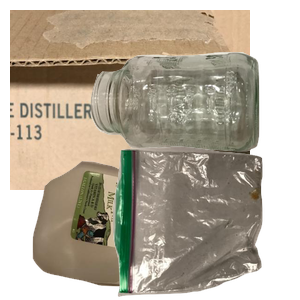cardboard: (10, 10, 250, 190)
glass: (88, 50, 300, 194)
plastic: (30, 159, 247, 300)
trash: (110, 144, 300, 300)
